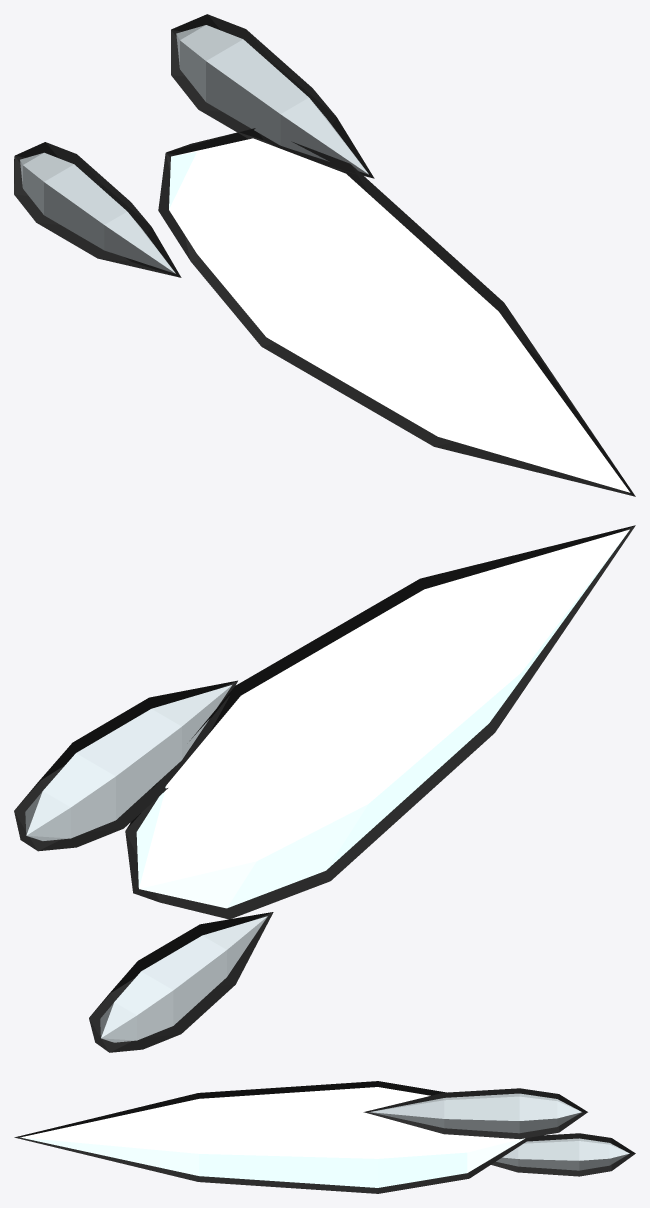
Rendered from td_frostbolt.fbx.
3 renders of one model, top to bottom at view 1: azimuth 30°, elevation 25°; view 2: azimuth 150°, elevation 25°; view 3: azimuth 270°, elevation 25°, orthographic. The views are drawn at different scales.
Parts seen in each view (by area): view 1: Prop_FrostBolt; view 2: Prop_FrostBolt; view 3: Prop_FrostBolt.
Part boxes in pixels (x1,y1,x2,y2): Prop_FrostBolt: (14,14,635,496); Prop_FrostBolt: (14,525,635,1052); Prop_FrostBolt: (14,1081,635,1193).
Bounding box in the file's own units: 7.99 × 8.53 × 41.7.
